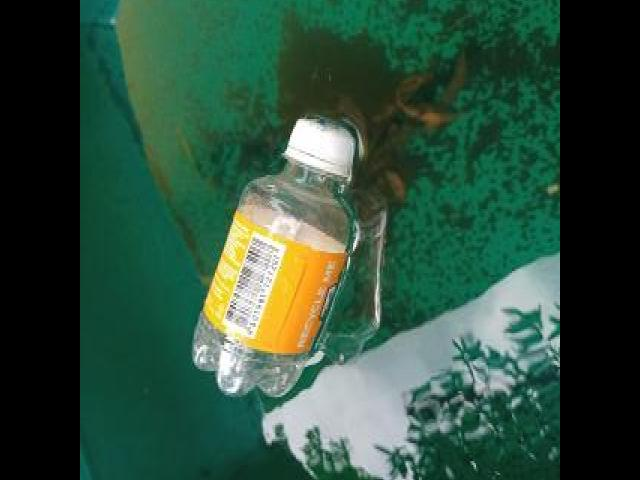Bottle: (188, 107, 366, 403)
